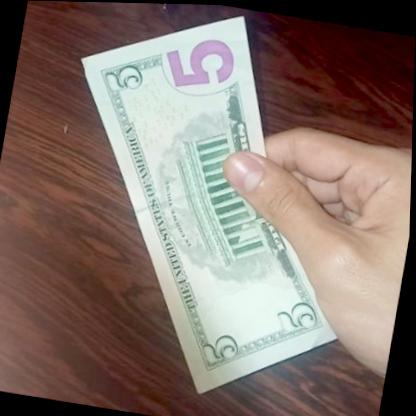five-back: (30, 1, 392, 416)
